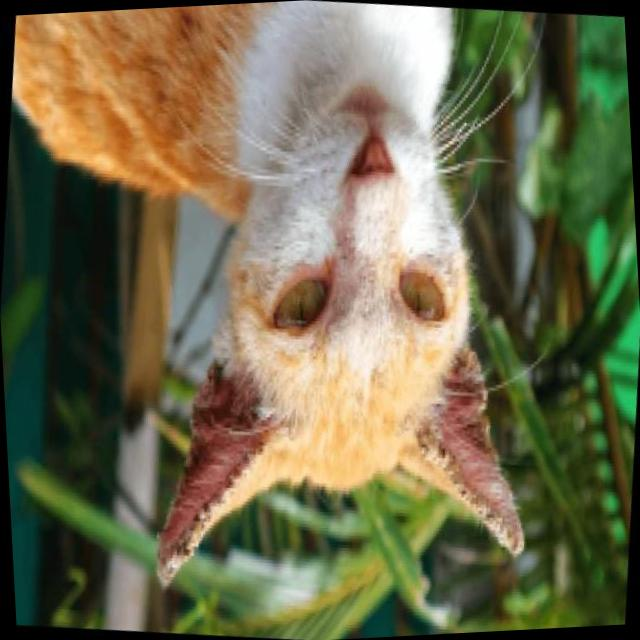Mange: (409, 426, 527, 556), (171, 439, 260, 580), (437, 341, 495, 457), (178, 351, 221, 492), (222, 372, 261, 432)
